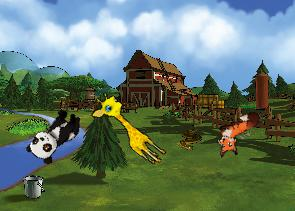fox: (208, 108, 269, 161)
giraffe: (86, 88, 175, 168)
panda: (23, 102, 86, 168)
